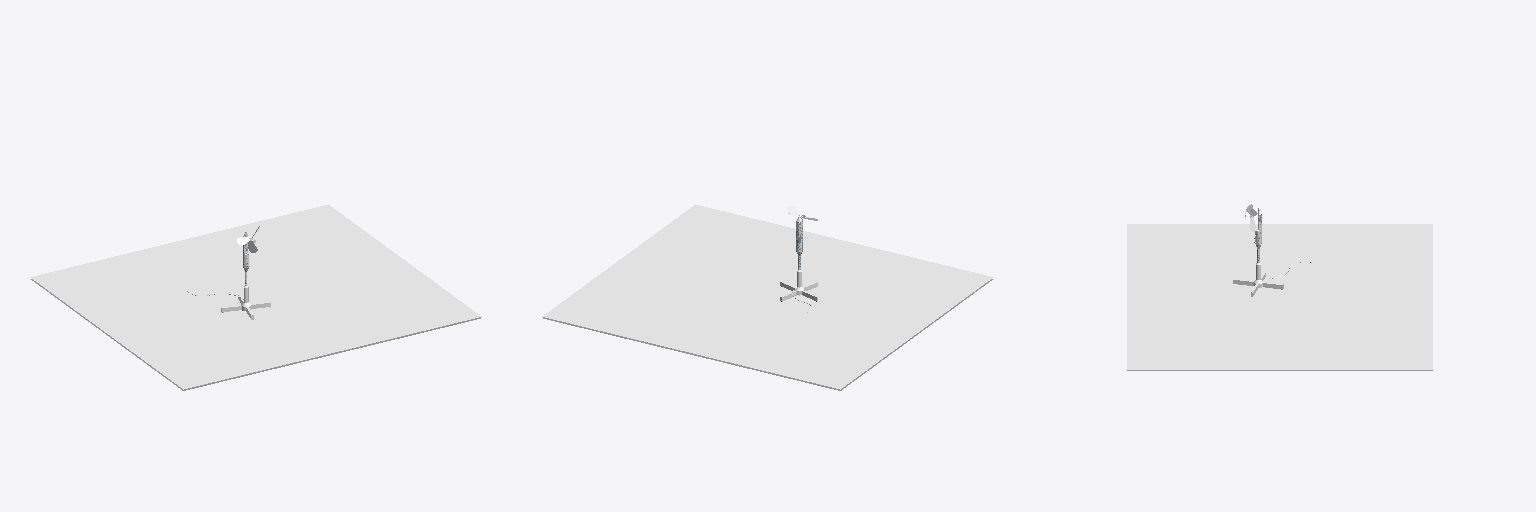
Rendered from abanico.obj.
3 views of the same model, side by side, from view 1: azimuth 30°, elevation 25°; view 2: azimuth 150°, elevation 25°; view 3: azimuth 270°, elevation 25° (orthographic).
Parts seen in each view (by area): view 1: 2, 3, ground_1; view 2: 3, 2, ground_1; view 3: 2, 3.
Part boxes in pixels (bbox=[...]): 2: bbox=[31, 204, 481, 388]; 3: bbox=[30, 206, 478, 389]; ground_1: bbox=[31, 279, 480, 390]; 3: bbox=[542, 204, 991, 388]; 2: bbox=[544, 205, 993, 389]; ground_1: bbox=[543, 279, 992, 390]; 2: bbox=[1127, 224, 1432, 369]; 3: bbox=[1127, 224, 1432, 369].
Size of the model in its own units: 414 by 113 by 369.